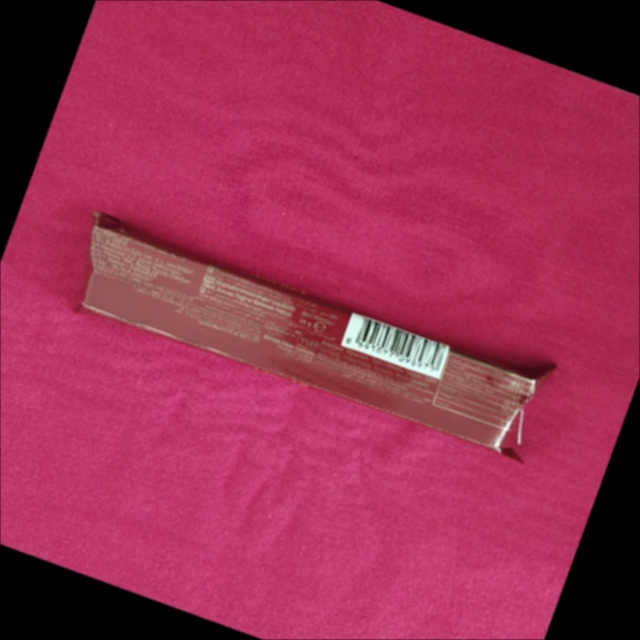centro_gofret: (82, 211, 558, 458)
